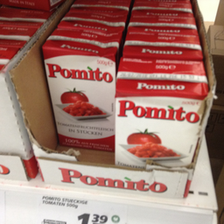tomato_sauce: (115, 57, 208, 172), (42, 28, 119, 153)
